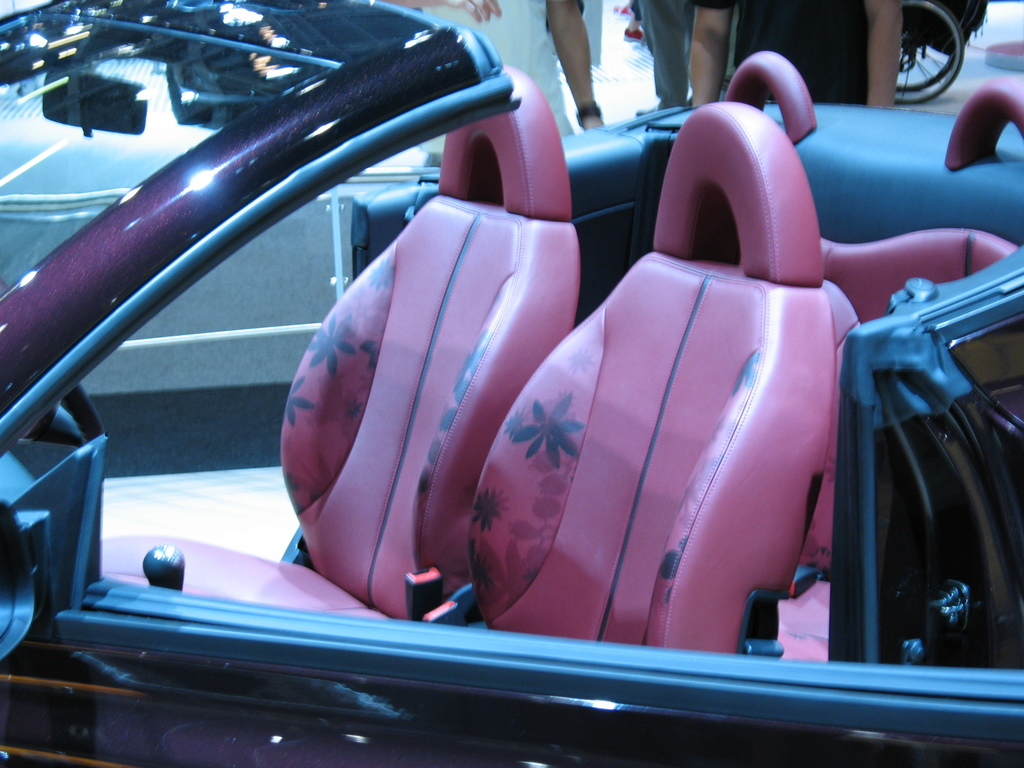Car: (13, 15, 917, 768)
